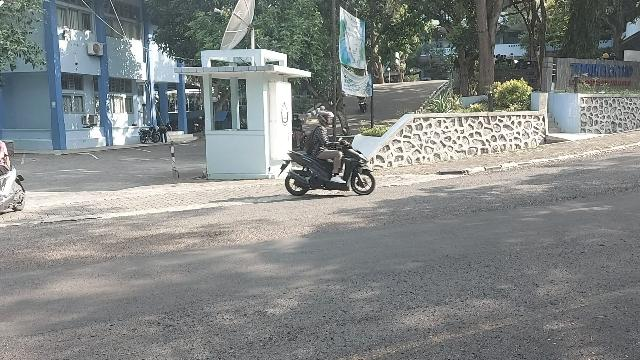helm: (319, 112, 336, 126)
motor: (280, 131, 377, 197)
